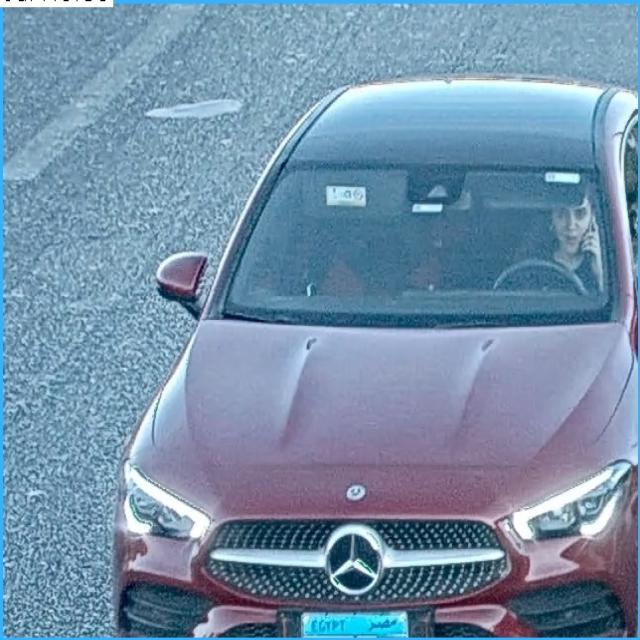windshield: (218, 165, 613, 322)
